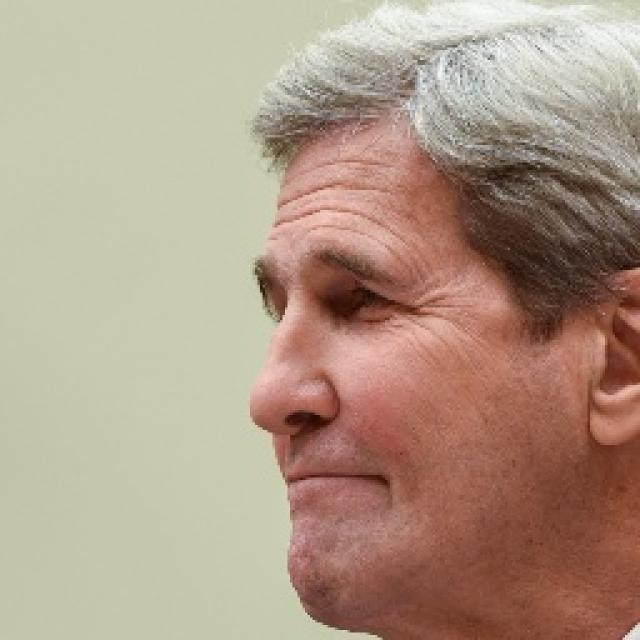earlobe: (588, 267, 640, 448)
